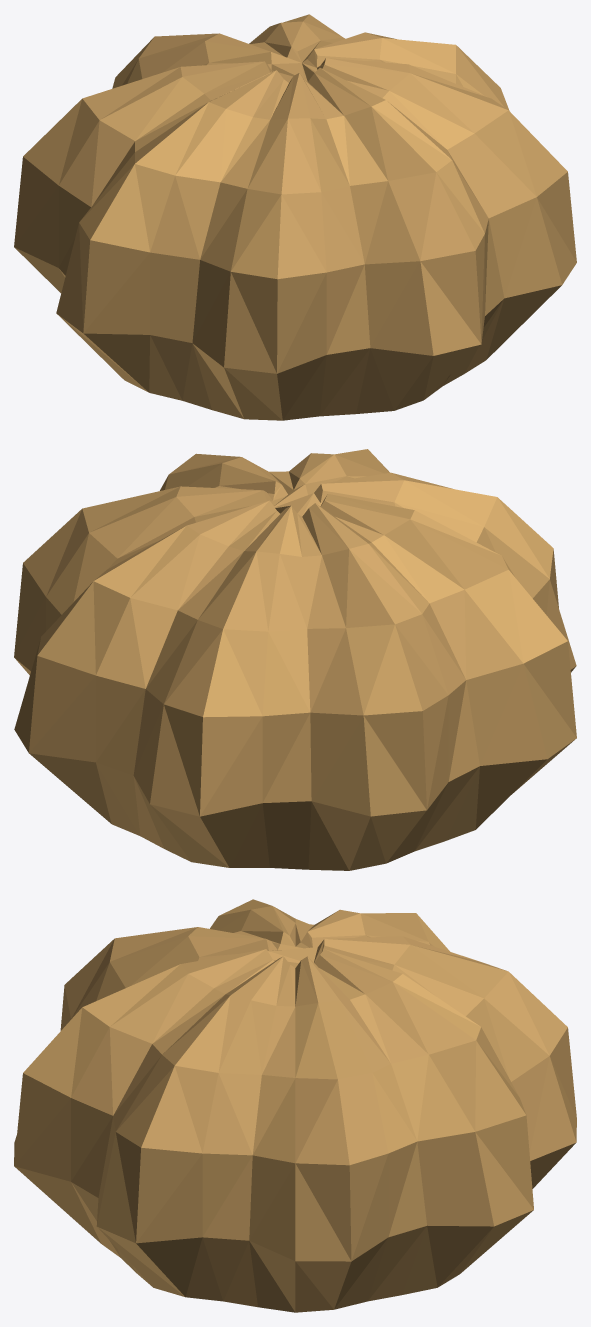
The model's file is ED_03_Spiral_Gathered_Bao.fbx.
3 renders of one model, top to bottom at view 1: azimuth 30°, elevation 25°; view 2: azimuth 150°, elevation 25°; view 3: azimuth 270°, elevation 25°, orthographic. The views are drawn at different scales.
Visible parts, largest first — view 1: ED_03_Spiral_Gathered_Bao; view 2: ED_03_Spiral_Gathered_Bao; view 3: ED_03_Spiral_Gathered_Bao.
Part boxes in pixels (x1=…): ED_03_Spiral_Gathered_Bao: x1=14, y1=14, x2=576, y2=420; ED_03_Spiral_Gathered_Bao: x1=14, y1=449, x2=576, y2=870; ED_03_Spiral_Gathered_Bao: x1=14, y1=899, x2=576, y2=1312.
Size of the model in its own units: 0.838 by 0.5261 by 0.838.
Materials: 1 (1 with a texture image).
